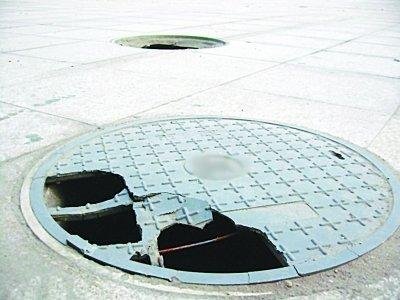wellcover: (29, 114, 400, 287), (108, 29, 229, 58)
